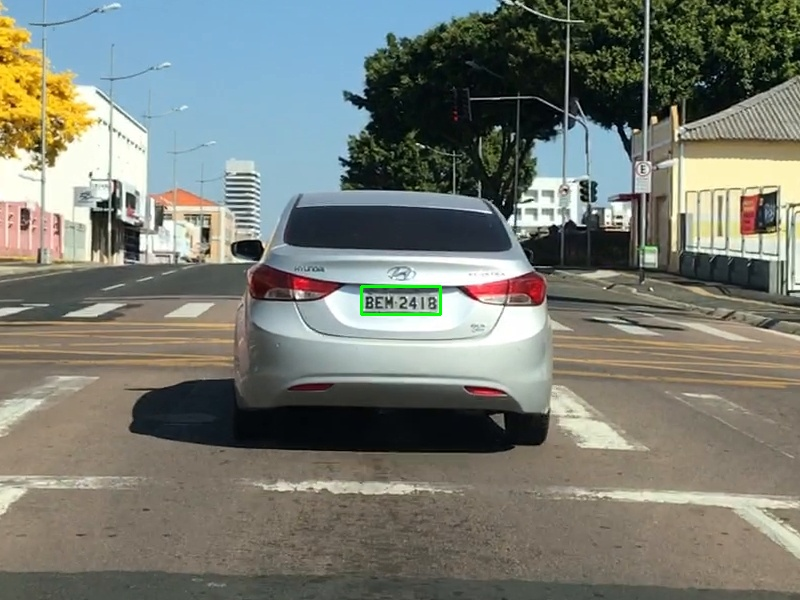placa: (361, 286, 440, 314)
